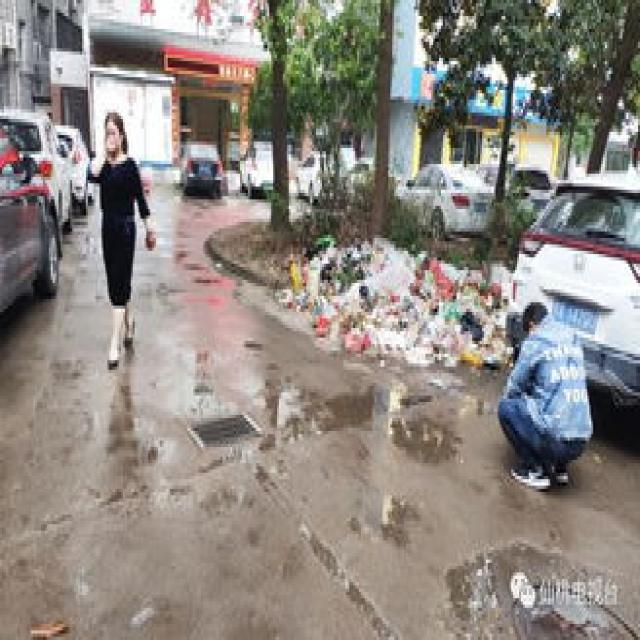garbage: (271, 228, 511, 367)
